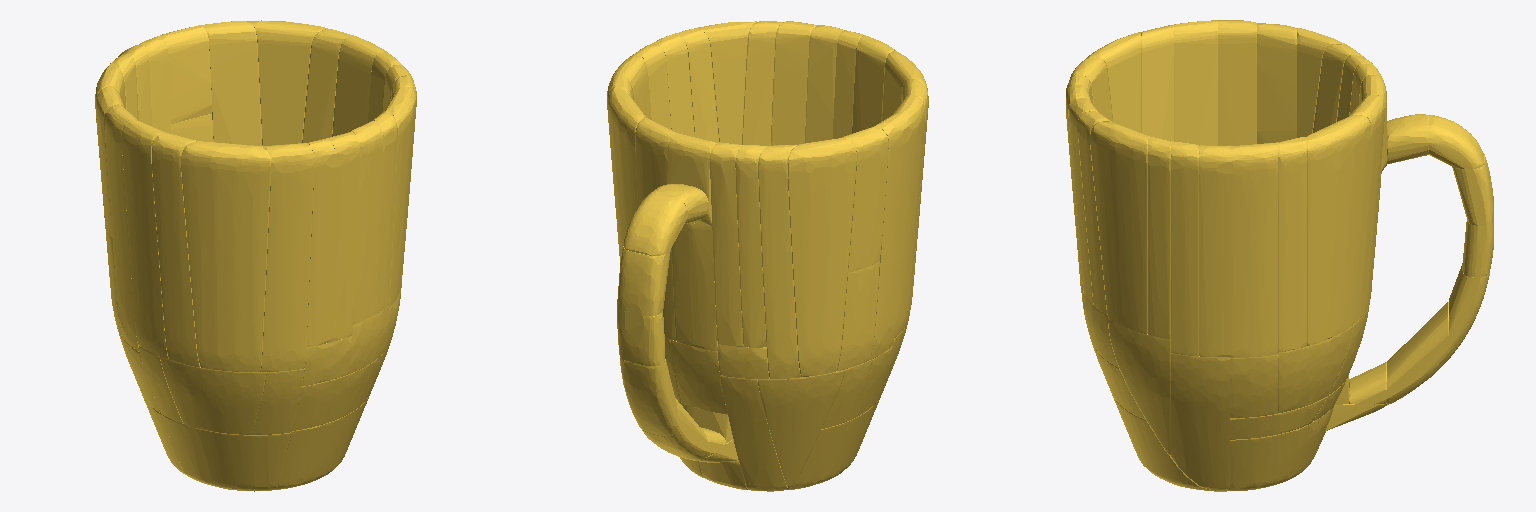
URDF robot description (893.urdf):
<?xml version="1.0" ?>
<robot name="893.urdf">
	<link name="baseLink">
		<inertial>
			<origin rpy="0 0 0" xyz="0 0 0"/>
				<mass value="0.1"/>
				<inertia ixx="6e-5" ixy="0" ixz="0" iyy="6e-5" iyz="0" izz="6e-5"/>
		</inertial>
		<visual>
			<origin rpy="0 0 0" xyz="0 0 0"/>
			<geometry>
				<mesh filename="20_decom_wt.obj" scale="0.99 0.99 1.19"/>
			</geometry>
			<material name="yellow">
				<color rgba="0.98 0.84 0.35 1"/>
			</material>
		</visual>
		<collision>
			<origin rpy="0 0 0" xyz="0 0 0"/>
			<geometry>
				<mesh filename="20_decom_wt.obj" scale="0.99 0.99 1.19"/>
			</geometry>
		</collision>
	</link>
</robot>

--- Render facts (derived) ---
3 views of the same robot in one strip: view 1: azimuth 30°, elevation 25°; view 2: azimuth 150°, elevation 25°; view 3: azimuth 270°, elevation 25° (orthographic).
Robot: 893.urdf — 1 links, 0 joints (none); root link baseLink; default pose: all joints at 0.
Visible links, largest first — view 1: baseLink; view 2: baseLink; view 3: baseLink.
Link boxes in pixels (bbox=[...]): baseLink: bbox=[95, 20, 416, 491]; baseLink: bbox=[607, 21, 928, 491]; baseLink: bbox=[1066, 20, 1493, 491].
Size in the robot's own frame: 0.085 by 0.1133 by 0.1089 metres.
Meshes: 1 distinct files referenced, 1 mesh visuals loaded (1 OBJ).